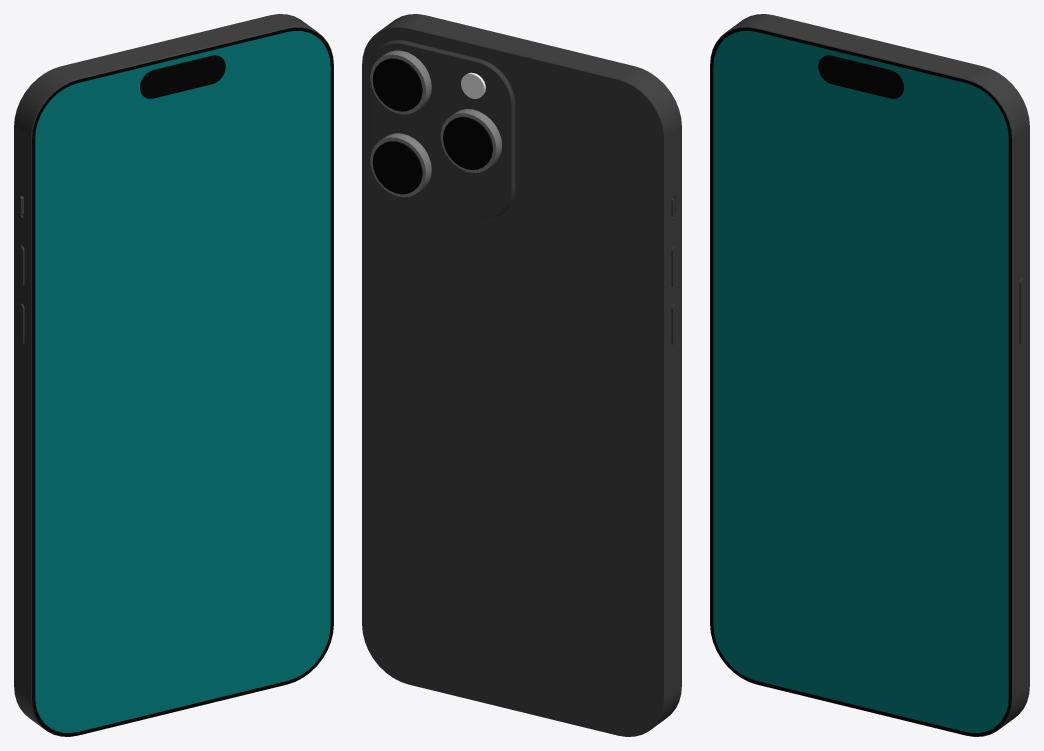
Rendered from Iphone_14_pro_max.gltf.
3 renders of one model, left to right at view 1: azimuth 30°, elevation 25°; view 2: azimuth 150°, elevation 25°; view 3: azimuth 330°, elevation 25°, orthographic.
Visible parts, largest first — view 1: Iphone 14 pro max; view 2: Iphone 14 pro max; view 3: Iphone 14 pro max.
Part boxes in pixels (x1,y1,x2,y2): Iphone 14 pro max: (14,14,333,736); Iphone 14 pro max: (362,14,681,736); Iphone 14 pro max: (710,14,1029,736).
Size of the model in its own units: 0.0784 by 0.1607 by 0.012.
